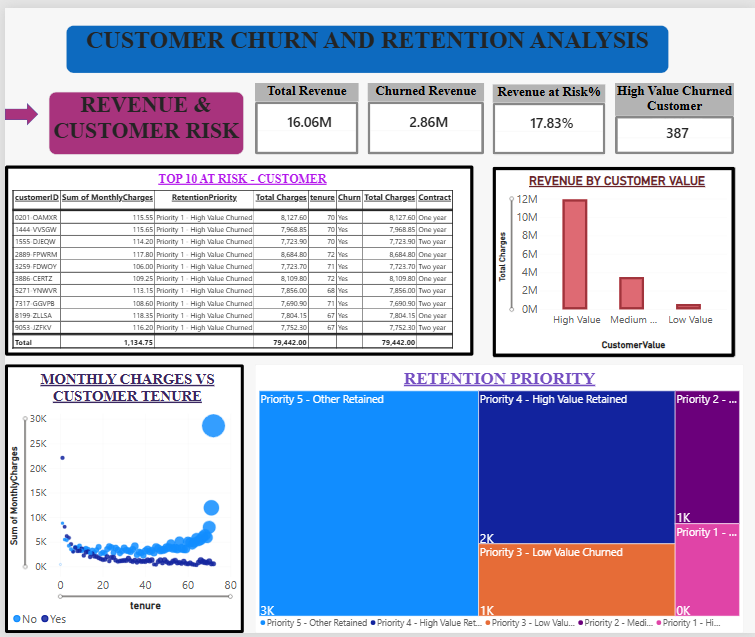

Layout of this report page (visuals, bound fields, positions):
{"tool":"powerbi","page":{"name":"Revenue and Customer Risk","canvas":[3000,2500],"ordinal":2},"visuals":[{"type":"clusteredColumnChart","title":"REVENUE BY CUSTOMER VALUE","fields":{"Category":["Customer_Account.CustomerValue"],"Y":["Customer_Account.Total Revenue"]},"box":[1947.8,634.8,969.6,760.9],"z":0},{"type":"textbox","box":[242.9,71.4,2409.5,190.5],"z":1000},{"type":"shape","box":[0,381,133.3,90.5],"z":2000},{"type":"textbox","box":[176.2,333.3,781,252.4],"z":3000},{"type":"cardVisual","title":"Total Revenue","fields":{"Data":["Sum(Customer_Account.TotalCharges)"]},"box":[1000,300,414.3,285.7],"z":4000},{"type":"cardVisual","title":"Churned Revenue","fields":{"Data":["Customer_Churn.Churned Revenue"]},"box":[1447.6,300,466.7,285.7],"z":5000},{"type":"cardVisual","title":"Revenue at Risk%","fields":{"Data":["Customer_Account.Revenue at Risk %"]},"box":[1947.6,304.8,452.4,281],"z":6000},{"type":"cardVisual","title":"High Value Churned Customer","fields":{"Data":["Customer_Churn.High Value Churned"]},"box":[2438.1,300,476.2,285.7],"z":7000},{"type":"scatterChart","title":"MONTHLY CHARGES  VS CUSTOMER TENURE","fields":{"X":["Dim_Customer.tenure"],"Y":["Sum(Customer_Account.MonthlyCharges)"],"Series":["Customer_Churn.Churn"],"Size":["Sum(Customer_Account.TotalCharges)"]},"box":[0,1425,955,1075],"z":8000},{"type":"tableEx","title":"TOP 10 AT RISK - CUSTOMER","fields":{"Values":["Customer_Account.customerID","Sum(Customer_Account.MonthlyCharges)","Customer_Churn.RetentionPriority","Customer_Account.Total Revenue","Dim_Customer.tenure","Customer_Churn.Churn","Customer_Account.Total Revenue","Customer_Account.Contract"]},"box":[0,630.4,1873.9,760.9],"z":9000},{"type":"treemap","title":"RETENTION PRIORITY","fields":{"Values":["Customer_Account.count of customerid"],"Group":["Customer_Churn.RetentionPriority"]},"box":[1000,1425,1955,1075],"z":9002}]}

Visuals, with their boxes in screenshot pixels (x1, y1, x2, y2), scaled from the page's 3000x2500 canvas onto the 755x637 screenshot:
"REVENUE BY CUSTOMER VALUE" clusteredColumnChart: rect(490, 162, 734, 356)
textbox: rect(61, 18, 668, 67)
shape: rect(0, 97, 34, 120)
textbox: rect(44, 85, 241, 149)
"Total Revenue" cardVisual: rect(252, 76, 356, 149)
"Churned Revenue" cardVisual: rect(364, 76, 482, 149)
"Revenue at Risk%" cardVisual: rect(490, 78, 604, 149)
"High Value Churned Customer" cardVisual: rect(614, 76, 733, 149)
"MONTHLY CHARGES  VS CUSTOMER TENURE" scatterChart: rect(0, 363, 240, 636)
"TOP 10 AT RISK - CUSTOMER" tableEx: rect(0, 161, 472, 355)
"RETENTION PRIORITY" treemap: rect(252, 363, 744, 636)
